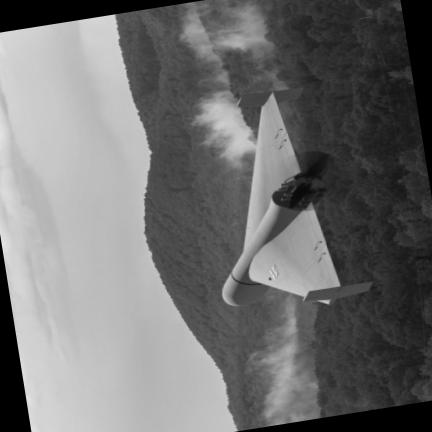Shahed: (222, 87, 372, 305)
